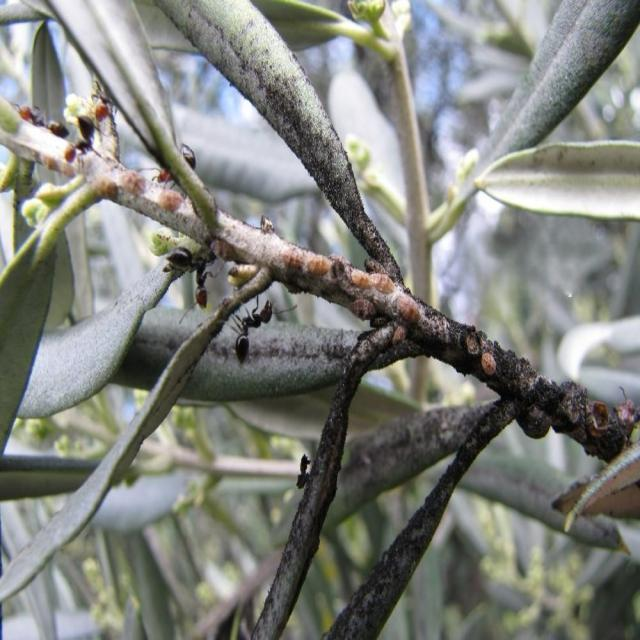BlackScale: (35, 144, 624, 458)
